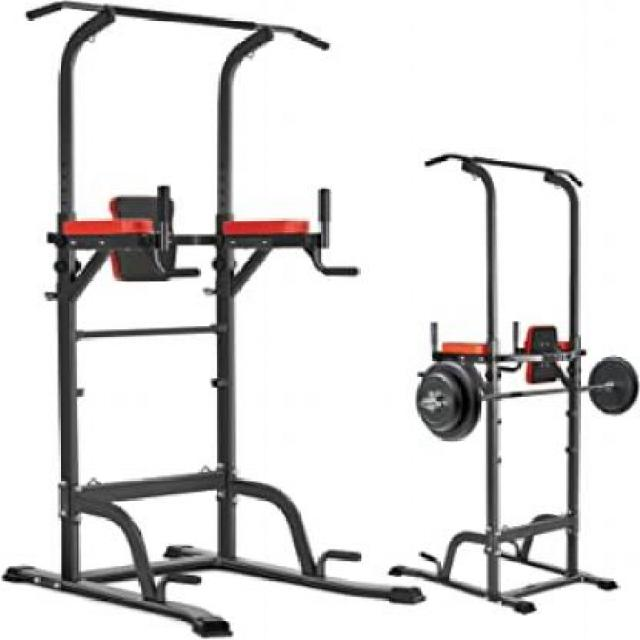chinning dipping: (4, 3, 373, 637)
